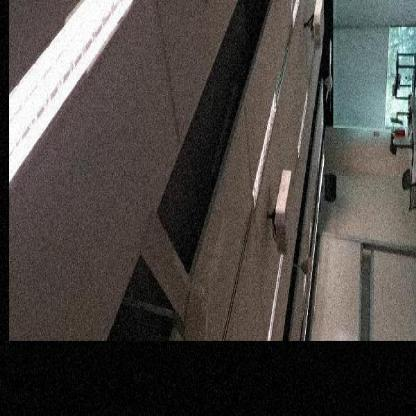light_on: (9, 0, 166, 203), (248, 85, 282, 209), (263, 250, 291, 341), (295, 90, 311, 162), (286, 0, 310, 27)
